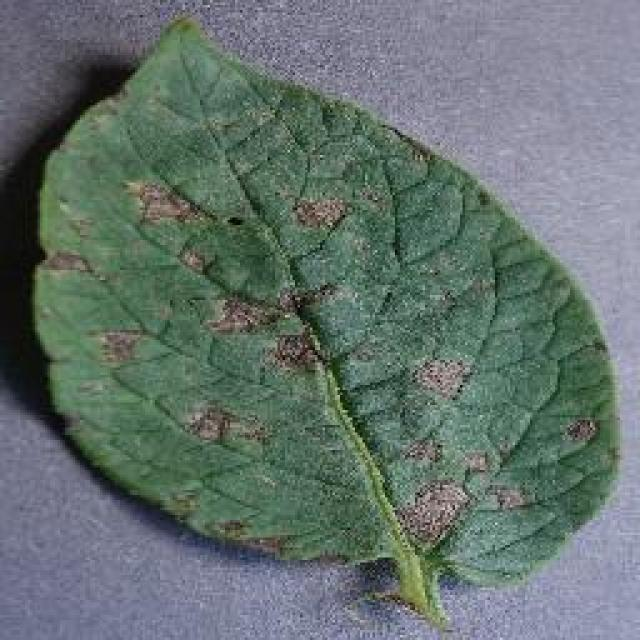green waste: (0, 13, 624, 613)
